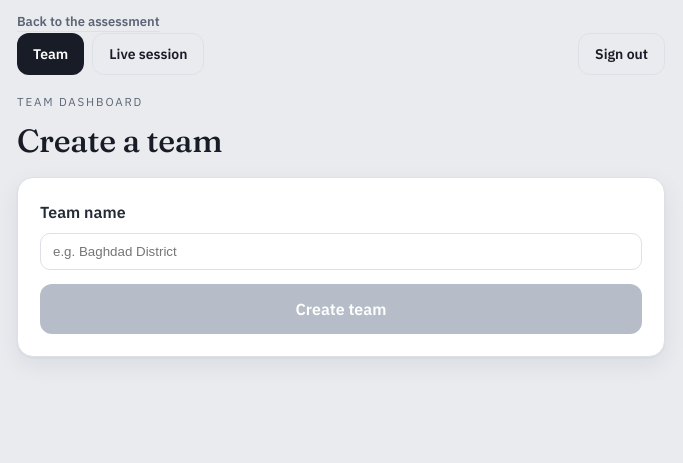
it: ManagerApp session tab › switches to the session tab, starts a session, and shows the join code
Expected: the field with placeholder "e.g. Baghdad District" is shown, x1=40 y1=233 x2=642 y2=270
Click the button "Live session".
click(148, 54)  # box x1=92 y1=33 x2=204 y2=75
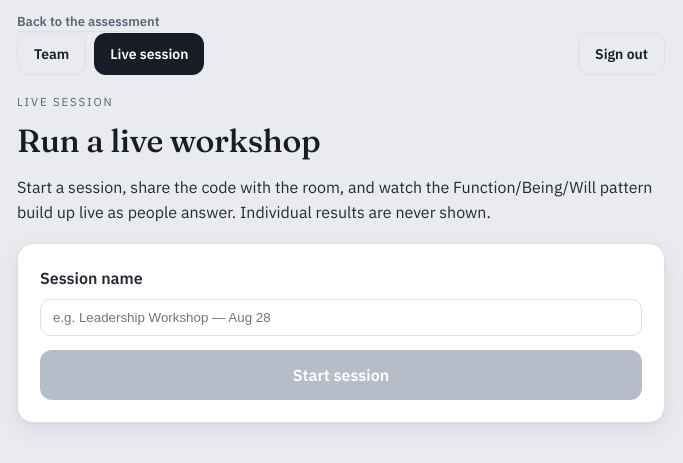
Type "Workshop A" into the field with placeholder "e.g. Leadership Workshop — Aug 28".
click(341, 317); type("Workshop A")  # box x1=40 y1=299 x2=642 y2=336
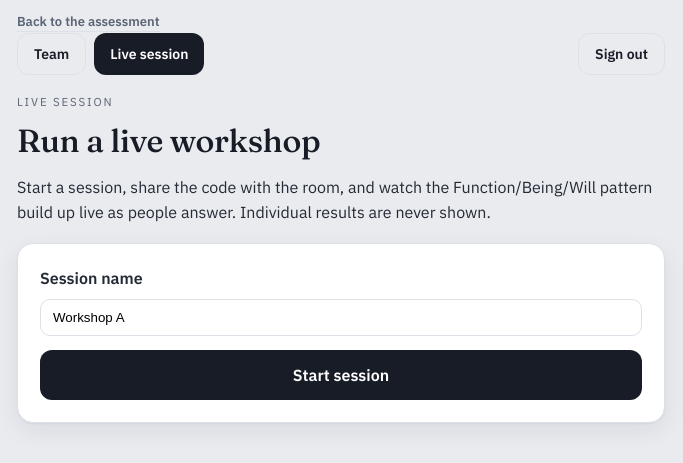
Click the button "Start session".
click(341, 375)  # box x1=40 y1=350 x2=642 y2=400
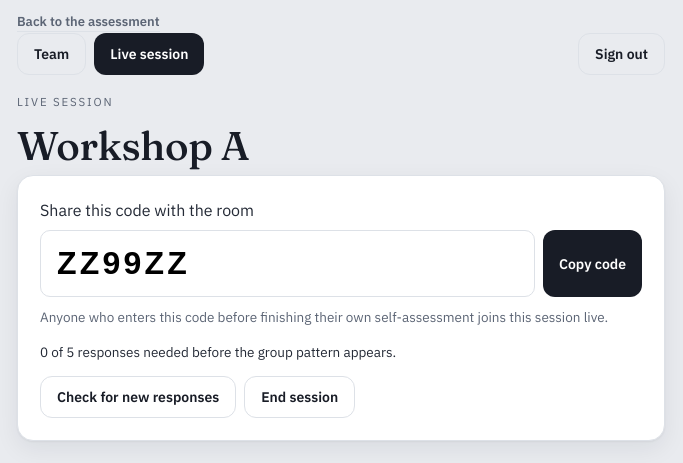
Expected: the field showing "ZZ99ZZ" is shown, x1=40 y1=230 x2=535 y2=297
